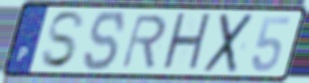5: (249, 15, 293, 73)
H: (158, 11, 214, 75)
R: (119, 12, 169, 71)
S: (81, 9, 128, 73), (39, 10, 87, 71)
X: (200, 12, 256, 75)
